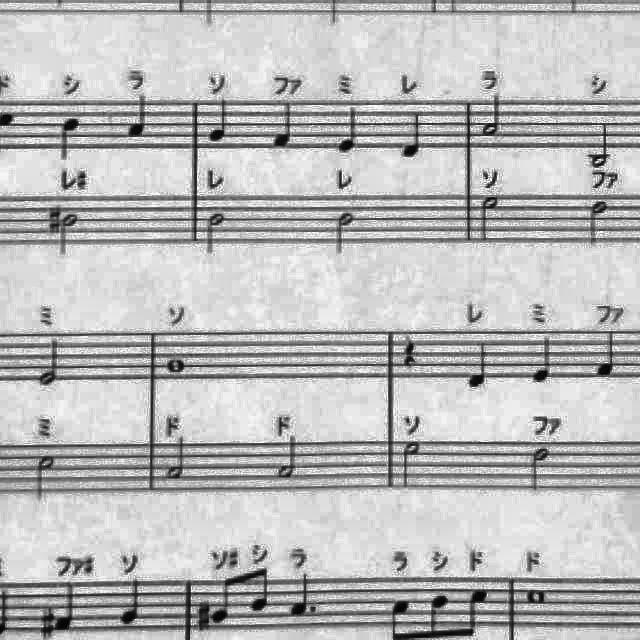Diez: (38, 600, 56, 640), (194, 598, 213, 634), (46, 202, 66, 236)
Eighth-note: (461, 584, 491, 640), (210, 573, 237, 627), (424, 590, 452, 640), (247, 564, 273, 616), (384, 596, 412, 640)
Full-note: (522, 584, 550, 608), (164, 352, 192, 376)
Half-note: (35, 332, 67, 388), (30, 452, 60, 508), (395, 436, 425, 492), (163, 432, 193, 484), (585, 118, 615, 170), (273, 432, 303, 483), (476, 190, 504, 244), (586, 195, 614, 249), (332, 208, 360, 260), (530, 440, 558, 492), (478, 90, 506, 140), (202, 209, 230, 259), (62, 210, 82, 258)
Quarter-dot: (286, 570, 326, 622)
Quarter-note: (464, 334, 496, 390), (528, 330, 558, 386), (270, 96, 300, 152), (56, 112, 88, 164), (124, 90, 156, 142), (116, 574, 146, 628), (592, 327, 622, 381), (399, 109, 428, 163), (336, 103, 364, 157), (54, 580, 82, 634), (206, 94, 234, 146)
Quarter-rest: (399, 330, 425, 370)
